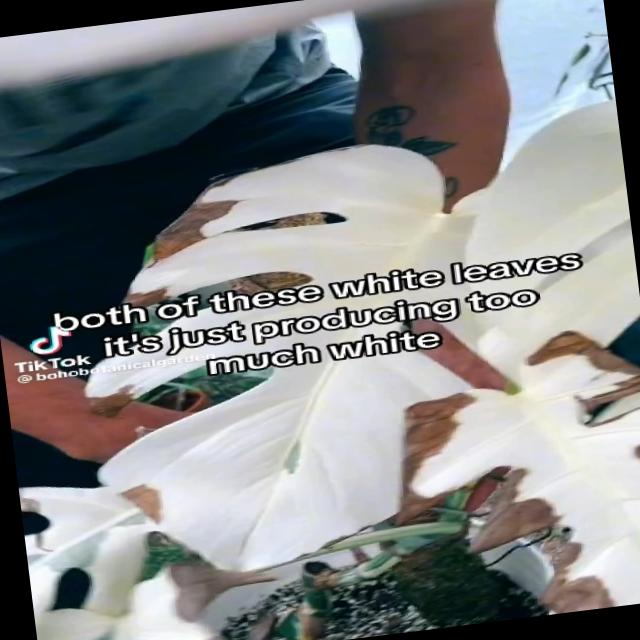lisc_suchy: (398, 329, 640, 613), (116, 144, 448, 319), (115, 561, 278, 640)
lisc_variegata: (18, 140, 484, 640), (428, 98, 640, 605)
roslina_sucha: (18, 102, 640, 640)
roslina_variegata: (20, 97, 640, 640)
